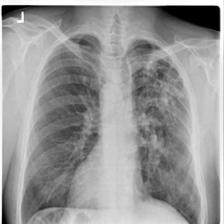tuberculosis: (17, 26, 205, 224)
